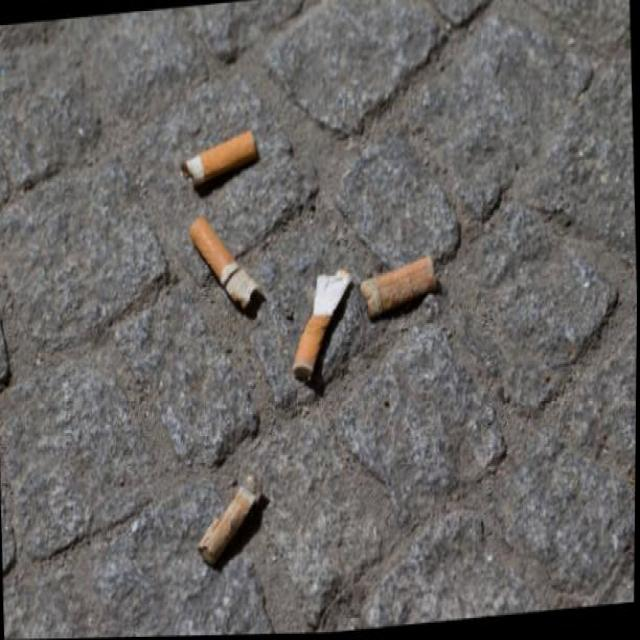cigarette: (186, 205, 267, 324), (287, 266, 357, 383), (196, 477, 268, 571), (360, 254, 441, 325), (180, 125, 262, 195)
